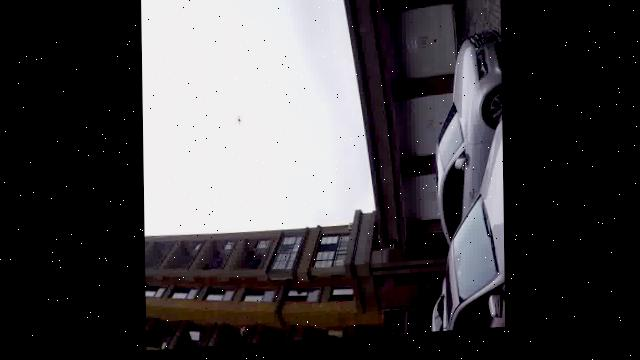drone: (220, 119, 243, 137)
